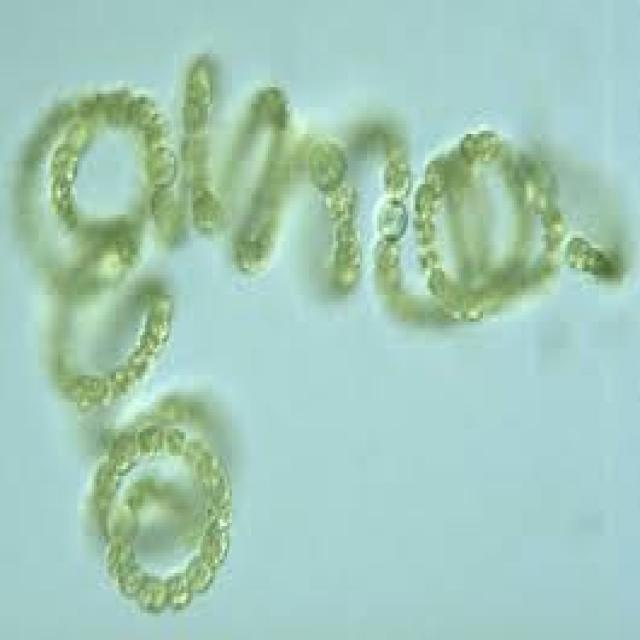Blue Green Algae: (106, 429, 140, 472), (183, 556, 215, 600), (382, 154, 411, 201), (200, 526, 230, 566), (135, 422, 164, 462), (164, 573, 191, 610), (95, 462, 118, 500), (135, 576, 162, 606), (164, 422, 186, 456), (416, 184, 437, 218), (145, 315, 171, 342), (416, 214, 437, 244), (68, 124, 89, 151)
